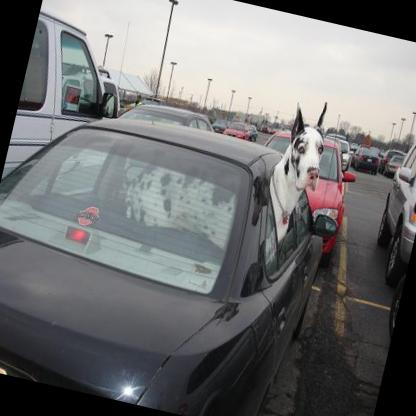Great_Dane: (252, 87, 337, 251)
